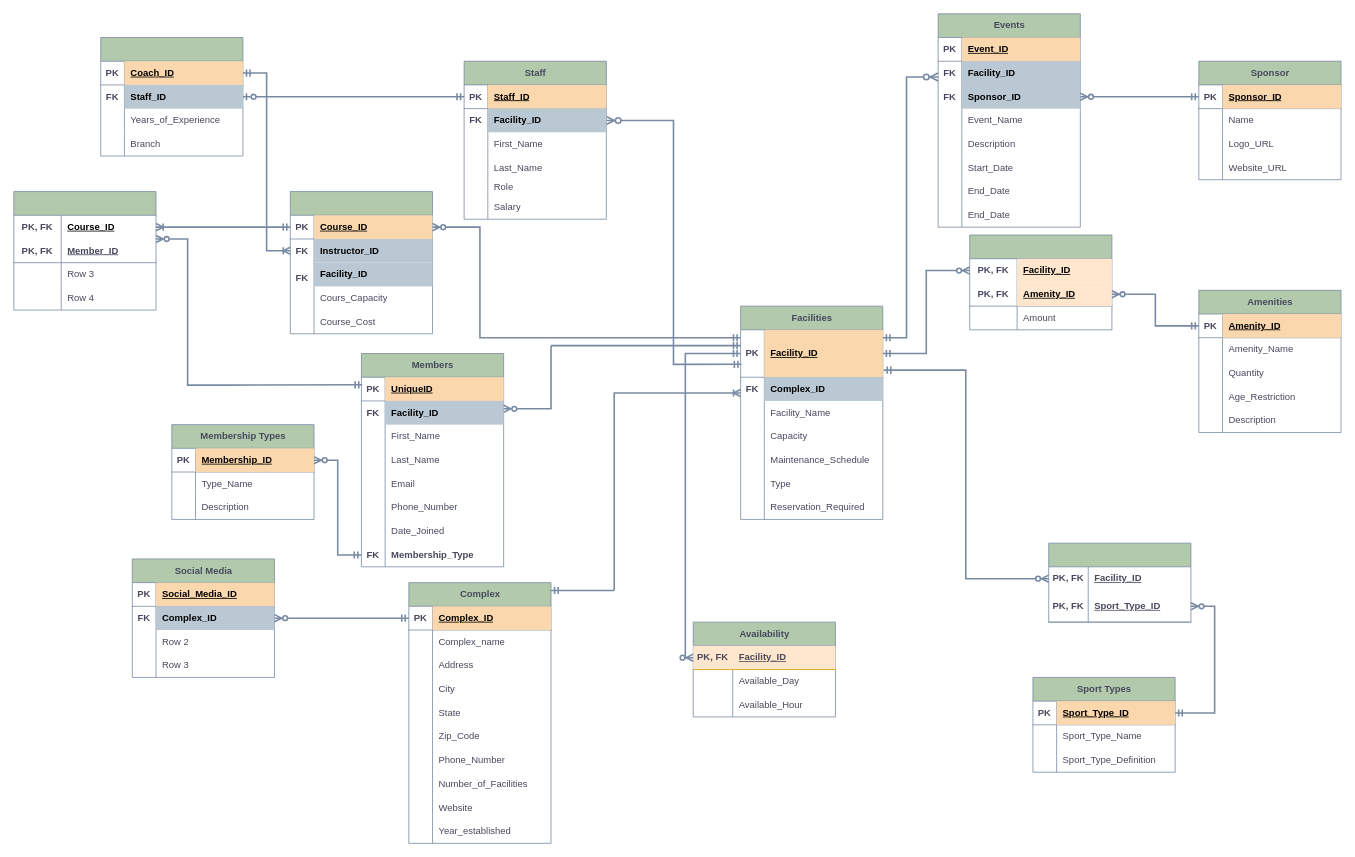
This 1355x857 diagram has some shape labels left out. Here are the shapes that lost their labels. From the top down, the box of each, then its label:
(100, 37, 243, 156): Coaches
(13, 191, 156, 310): Course Enrollments
(290, 191, 433, 334): Courses
(969, 234, 1112, 330): Facility - Amenity
(1048, 542, 1191, 622): Facility - Sport Type
